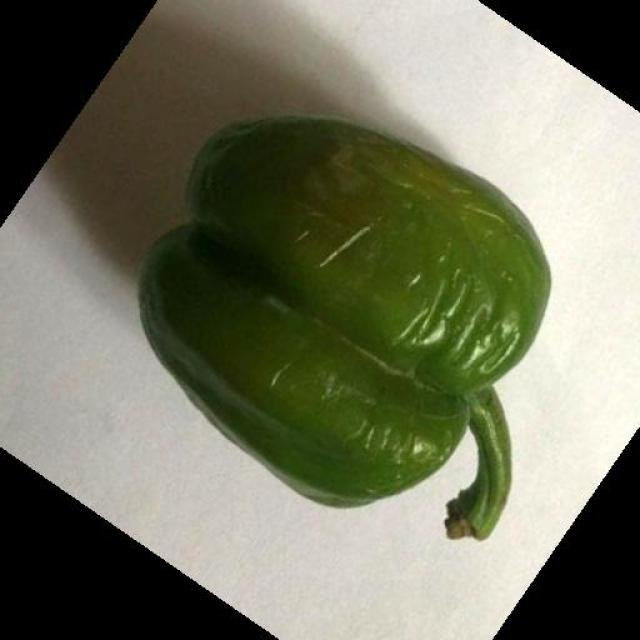Stale_Capsicum: (134, 118, 554, 511)
